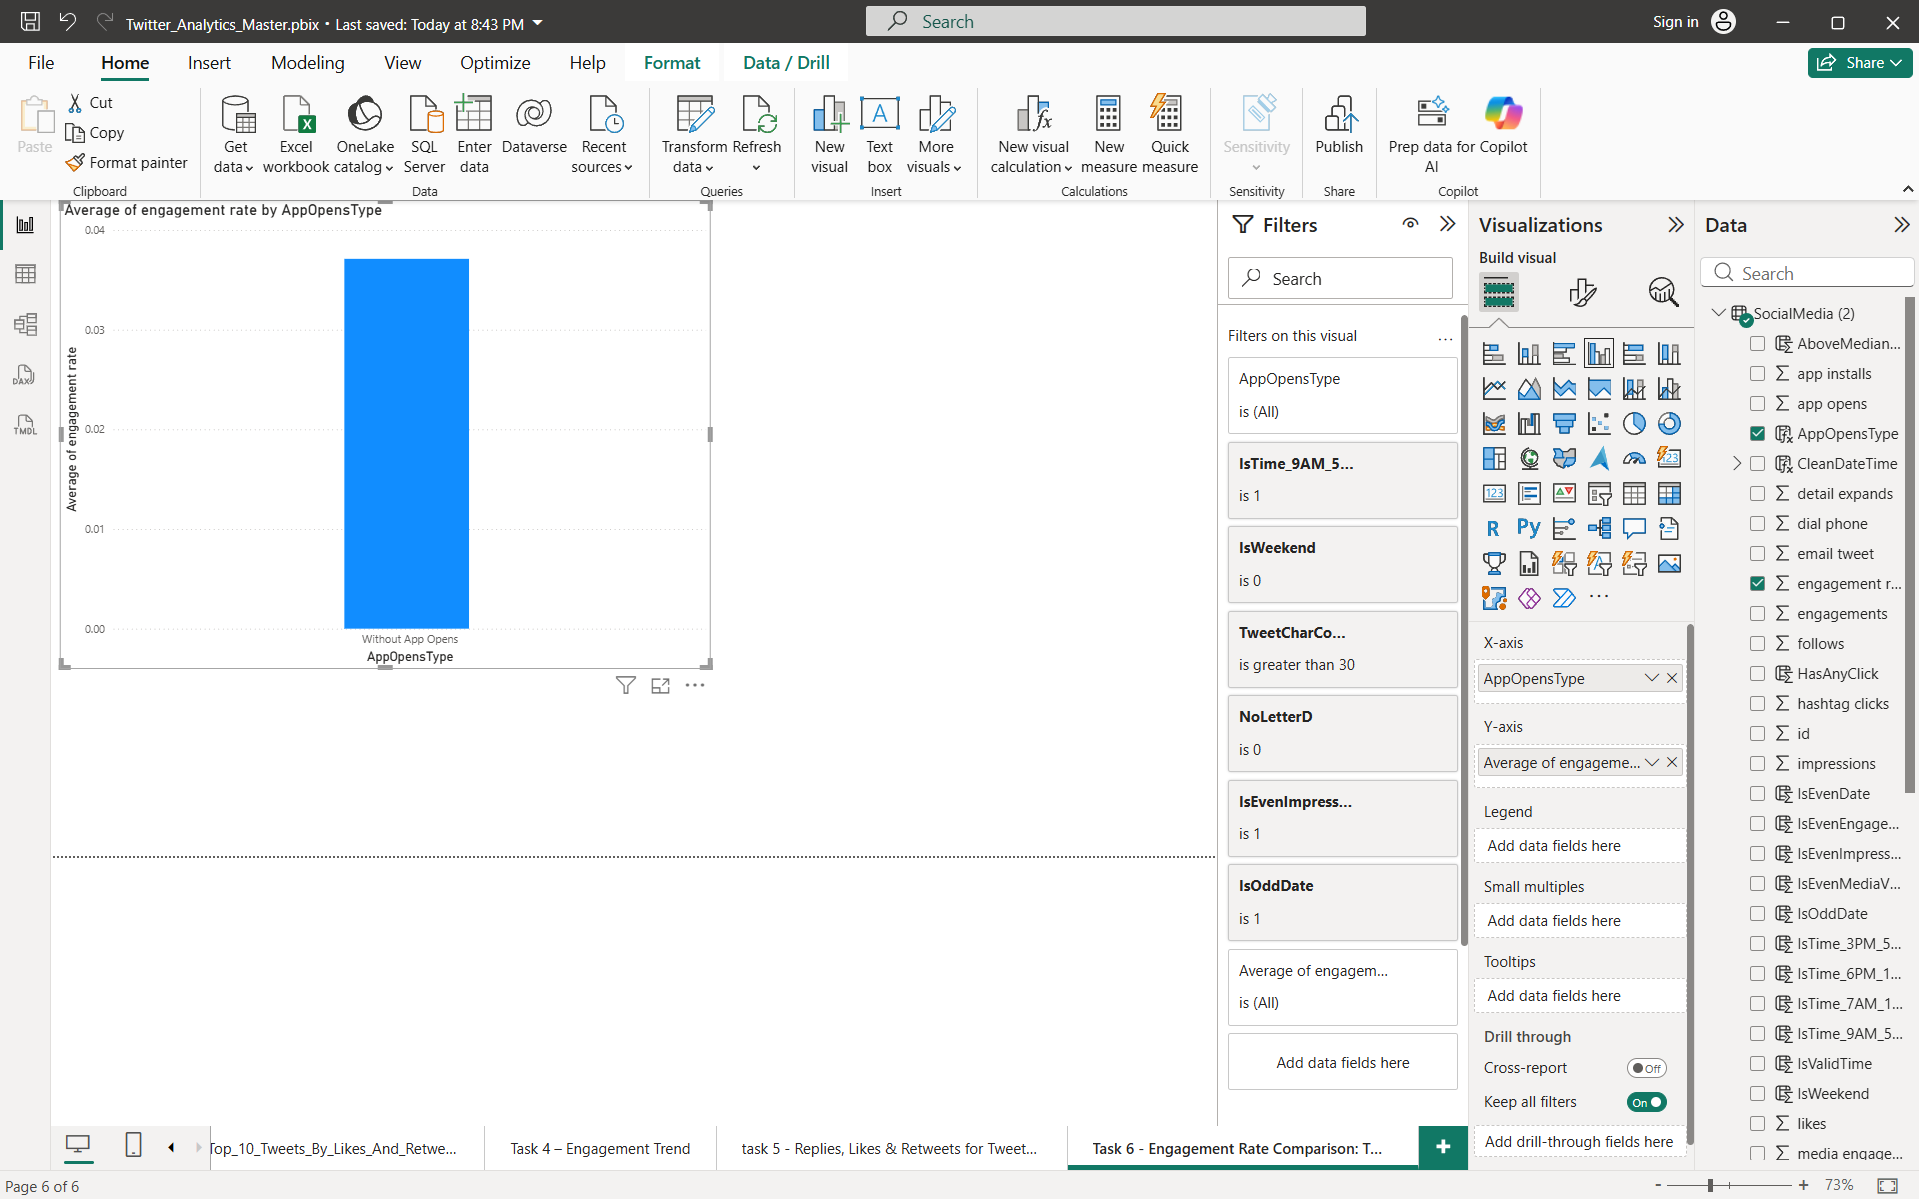

The dashboard page shown, as its layout file describes it:
{"tool":"powerbi","page":{"name":"Task 6 - Engagement Rate Comparison: Tweets With vs Without App Opens","canvas":[1280,720],"ordinal":5},"visuals":[{"type":"clusteredColumnChart","fields":{"Category":["SocialMedia (2).AppOpensType"],"Y":["Avg(SocialMedia (2).engagement rate)"]},"box":[10,0,630,442.5],"z":0}]}

Visuals, with their boxes on the page's 1280x720 design canvas (x1, y1, x2, y2). These are canvas units, not pixel positions in the 1919x1199 screenshot, which may show the page scaled, cropped or inside an application window:
clusteredColumnChart - SocialMedia (2).AppOpensType x Avg(SocialMedia (2).engagement rate): crop(10, 0, 640, 442)
